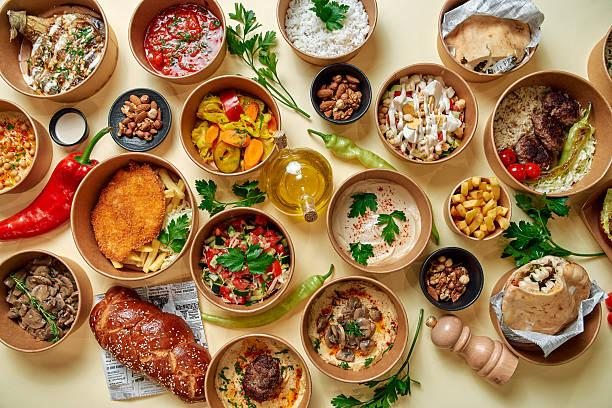Braised Crucian Carp: (69, 152, 194, 281), (484, 71, 608, 199), (98, 280, 207, 398), (1, 0, 117, 103), (189, 206, 296, 314), (485, 265, 600, 365), (299, 275, 404, 384), (178, 75, 281, 178), (375, 62, 477, 166), (326, 166, 428, 270), (0, 249, 91, 352), (436, 0, 541, 83), (127, 0, 226, 86), (203, 333, 312, 407), (275, 1, 368, 67), (0, 95, 53, 203)
